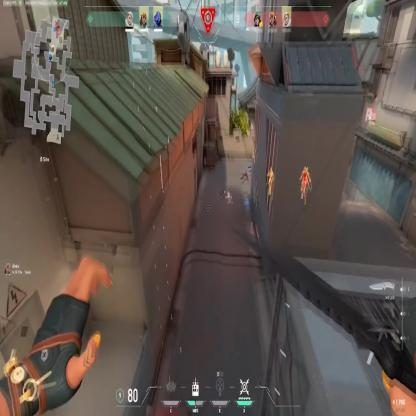enemy: (300, 167, 310, 200), (266, 167, 274, 197)
enemy_head: (304, 166, 308, 174), (270, 166, 272, 172)
